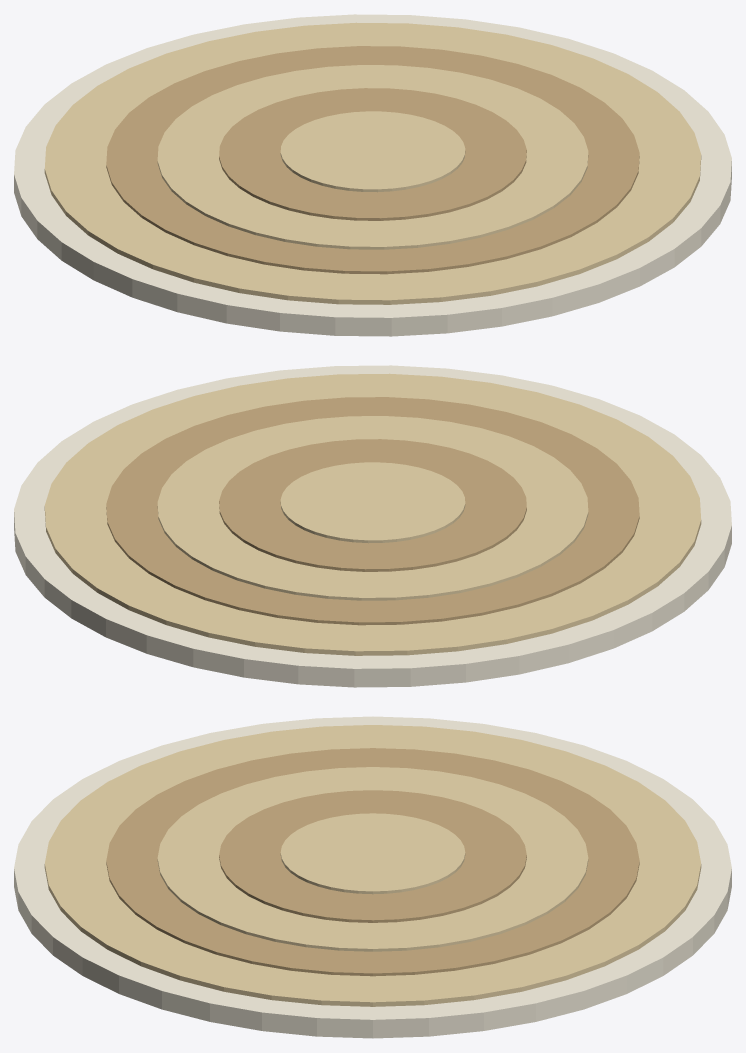
File: lampspot.glb
The picture shows the model from 3 angles, top to bottom: view 1: azimuth 30°, elevation 25°; view 2: azimuth 150°, elevation 25°; view 3: azimuth 270°, elevation 25°; orthographic projection.
Parts seen in each view (by area): view 1: mat-ring0, mat-rim, mat-ring1, mat-ring2, mat-ring3, mat-ring4; view 2: mat-ring0, mat-rim, mat-ring1, mat-ring2, mat-ring3, mat-ring4; view 3: mat-ring0, mat-rim, mat-ring1, mat-ring2, mat-ring3, mat-ring4.
Boxes of the visible parts, x1,y1,x2,y2 form: mat-ring0: (44, 22, 701, 304); mat-rim: (14, 14, 731, 336); mat-ring1: (106, 46, 639, 274); mat-ring2: (157, 65, 588, 249); mat-ring3: (219, 88, 526, 220); mat-ring4: (280, 111, 465, 192); mat-ring0: (44, 373, 701, 655); mat-rim: (14, 365, 731, 687); mat-ring1: (106, 397, 639, 625); mat-ring2: (157, 416, 588, 600); mat-ring3: (219, 439, 526, 571); mat-ring4: (280, 462, 465, 543); mat-ring0: (44, 725, 701, 1006); mat-rim: (14, 716, 731, 1038); mat-ring1: (106, 748, 639, 976); mat-ring2: (157, 767, 588, 951); mat-ring3: (219, 790, 526, 922); mat-ring4: (280, 813, 465, 894).
Bounding box in the file's own units: 0.07 × 0.0037 × 0.07.
